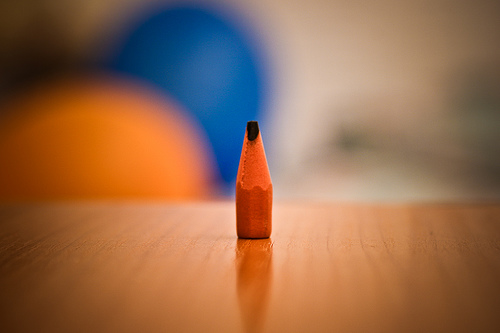pen_tip: (225, 116, 275, 199)
